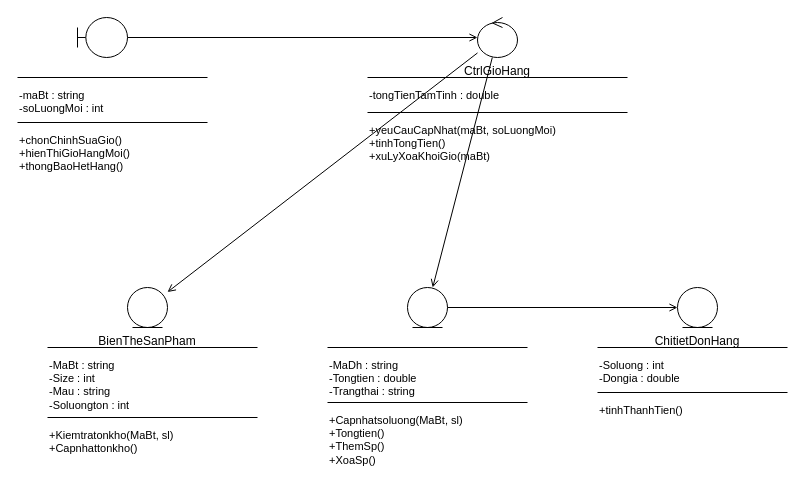
Image size: 806x485. Some labels were removed from this diagram. Here are the shapes that lost their labels. From the top down, the centre of each, then its label:
(x=102, y=37): FrmGioHang
(x=427, y=307): DonHang
